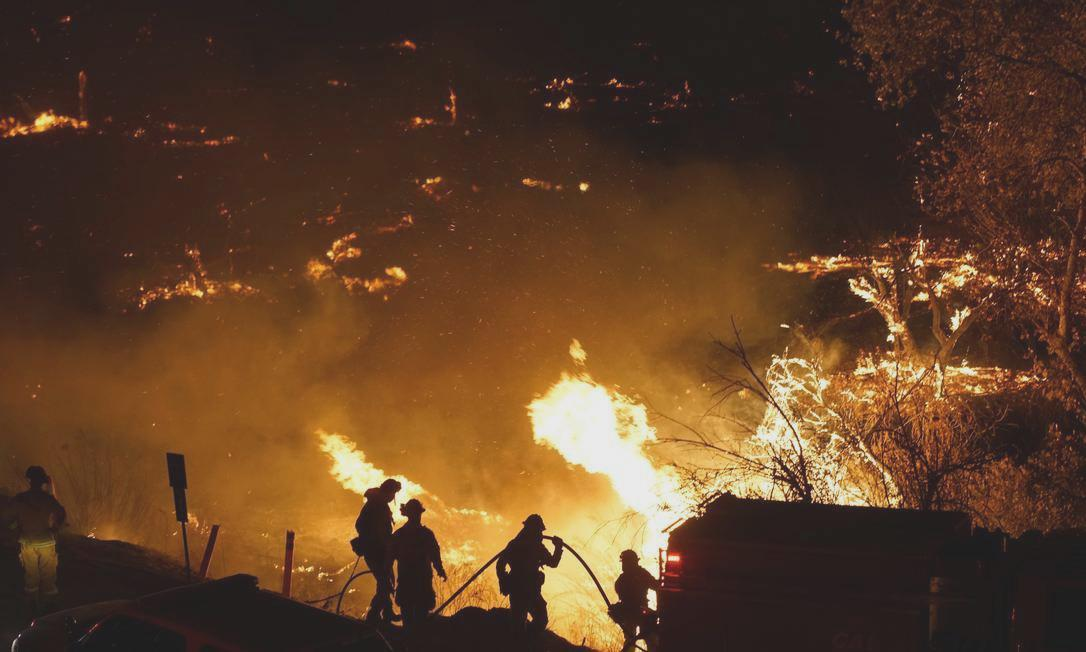fire: (764, 236, 1013, 507), (520, 346, 704, 538), (304, 419, 452, 525), (298, 223, 423, 302), (124, 246, 263, 312), (1, 101, 92, 148)
